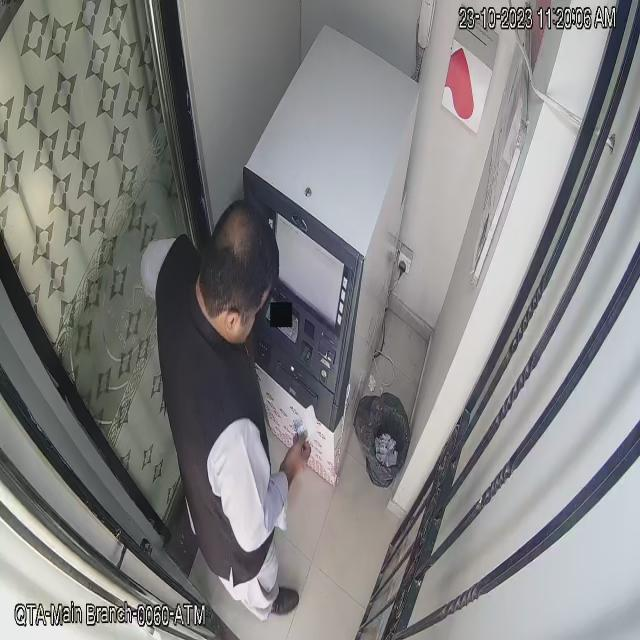note: (288, 395, 322, 454)
